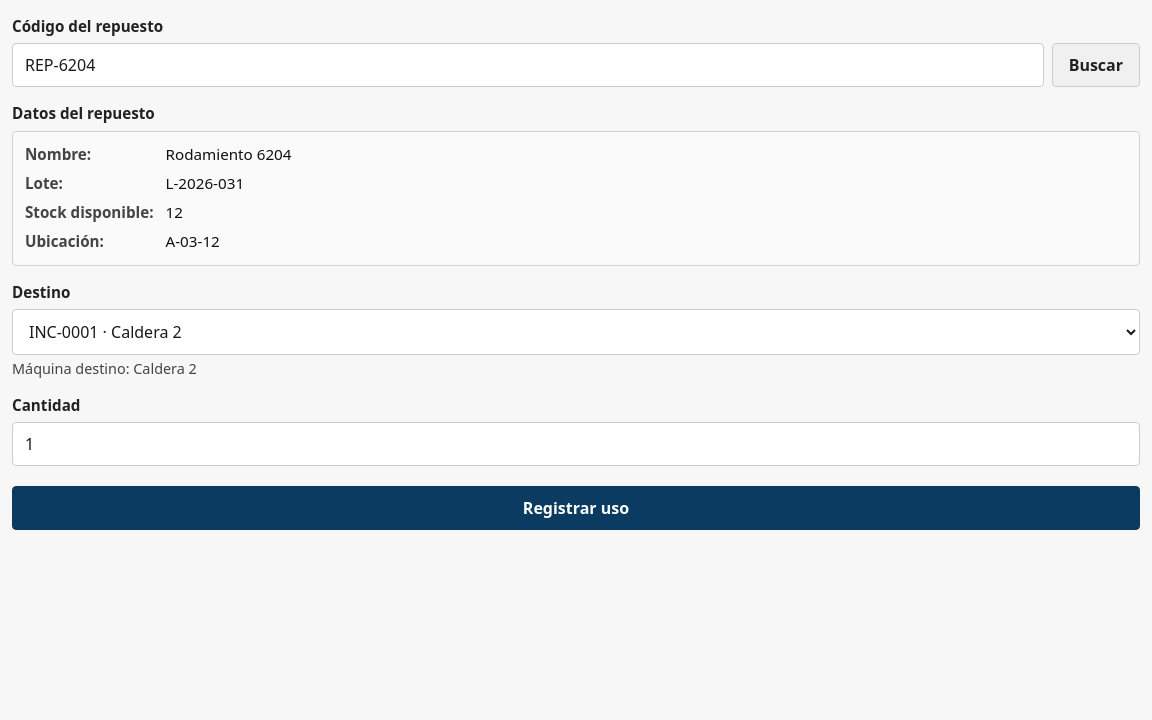
Test: Registrar uso de repuesto › envía destino y cantidad, y muestra el aviso de stock mínimo cuando la API informa alerta (RN-02)
Expected: the text "Rodamiento 6204" is shown, x1=166 y1=144 x2=291 y2=164
Replace the text in the number field labelled "Cantidad" with "4" at coordinates (576, 444), box x1=12 y1=422 x2=1140 y2=466
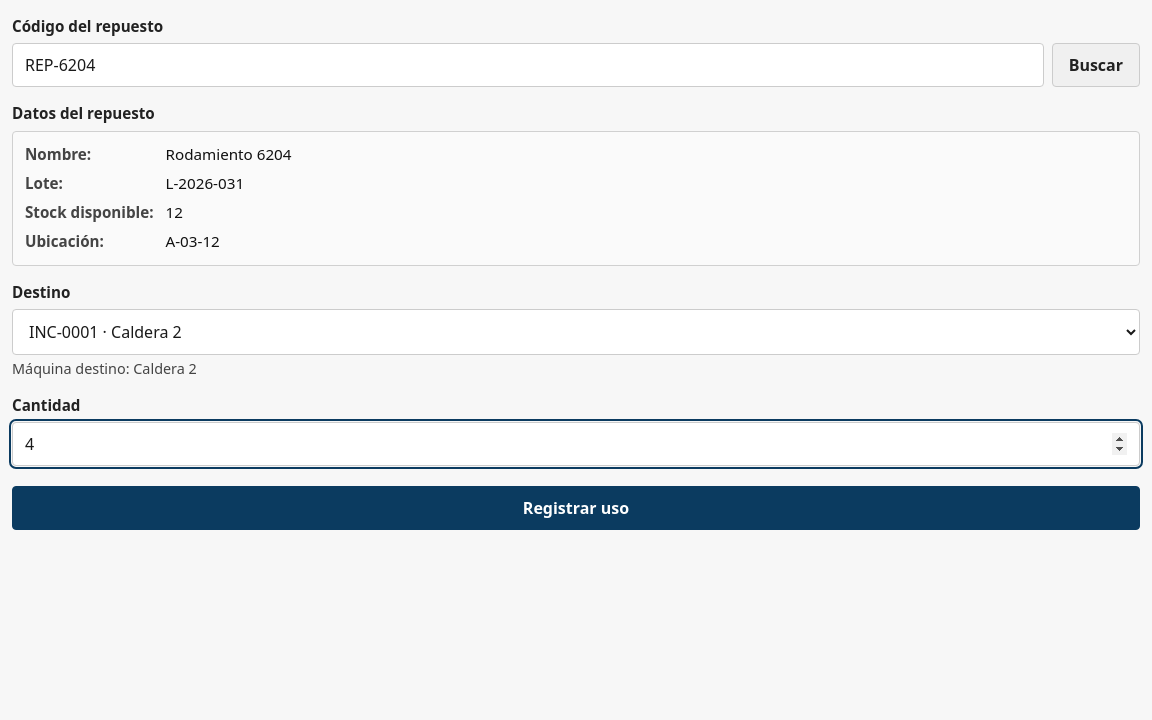
Click the button "Registrar uso" at coordinates (576, 508), box x1=12 y1=486 x2=1140 y2=530
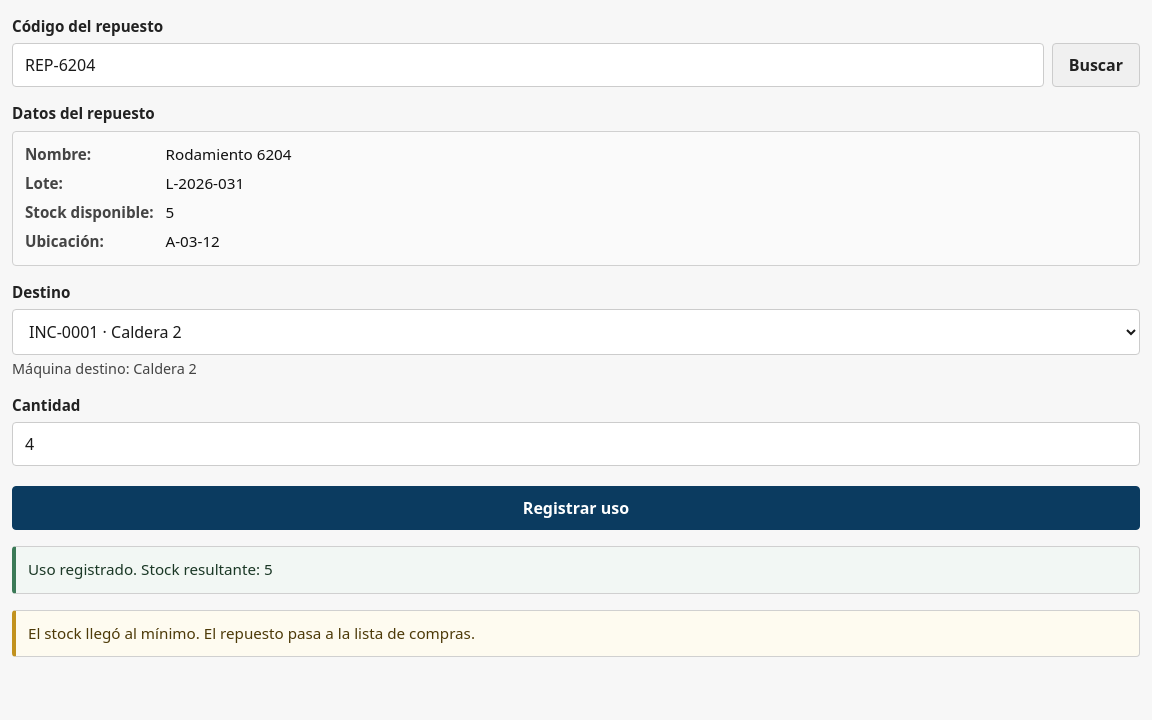
Result: the text "Uso registrado. Stock resultante: 5" is shown at x1=12 y1=546 x2=1140 y2=594
Result: the text "El stock llegó al mínimo. El repuesto pasa a la lista de compras." is shown at x1=12 y1=610 x2=1140 y2=657
